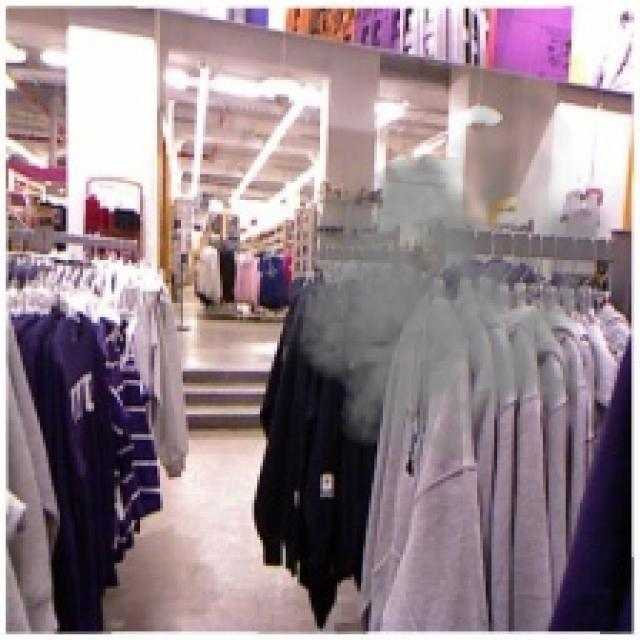Smoke: (274, 42, 620, 468)
